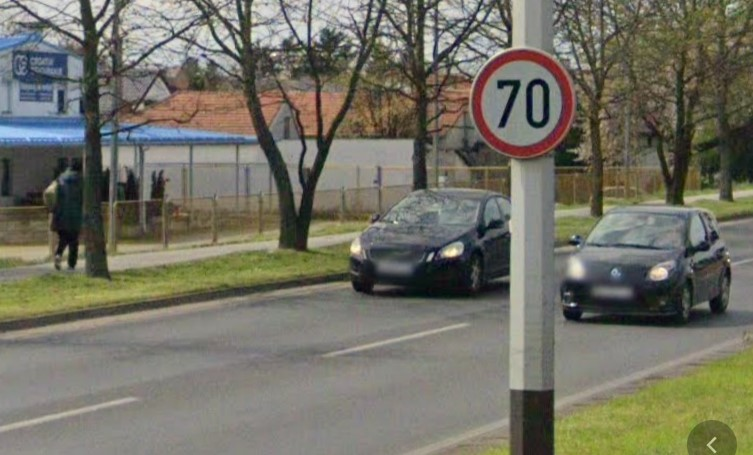Ograničenje brzine 70: (470, 47, 576, 159)
